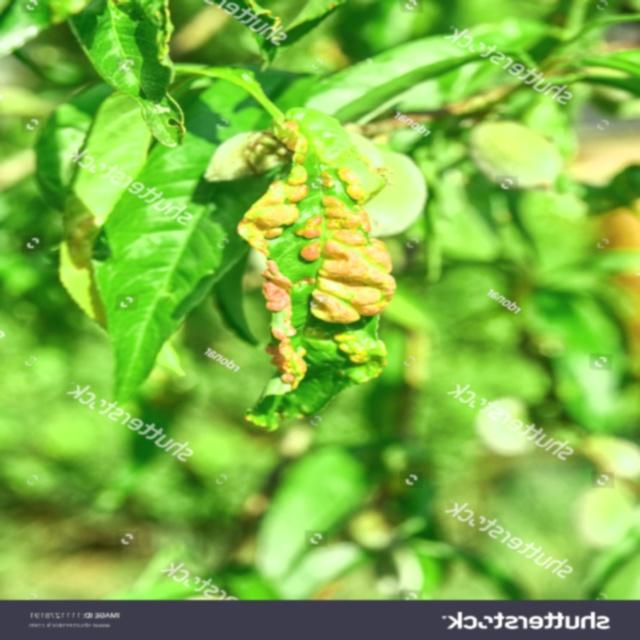leaf_curl: (211, 81, 408, 497)
